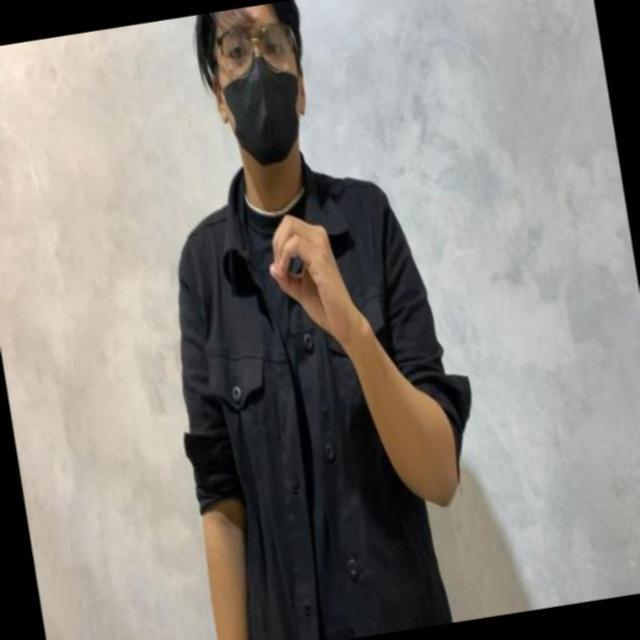O: (260, 212, 348, 322)
